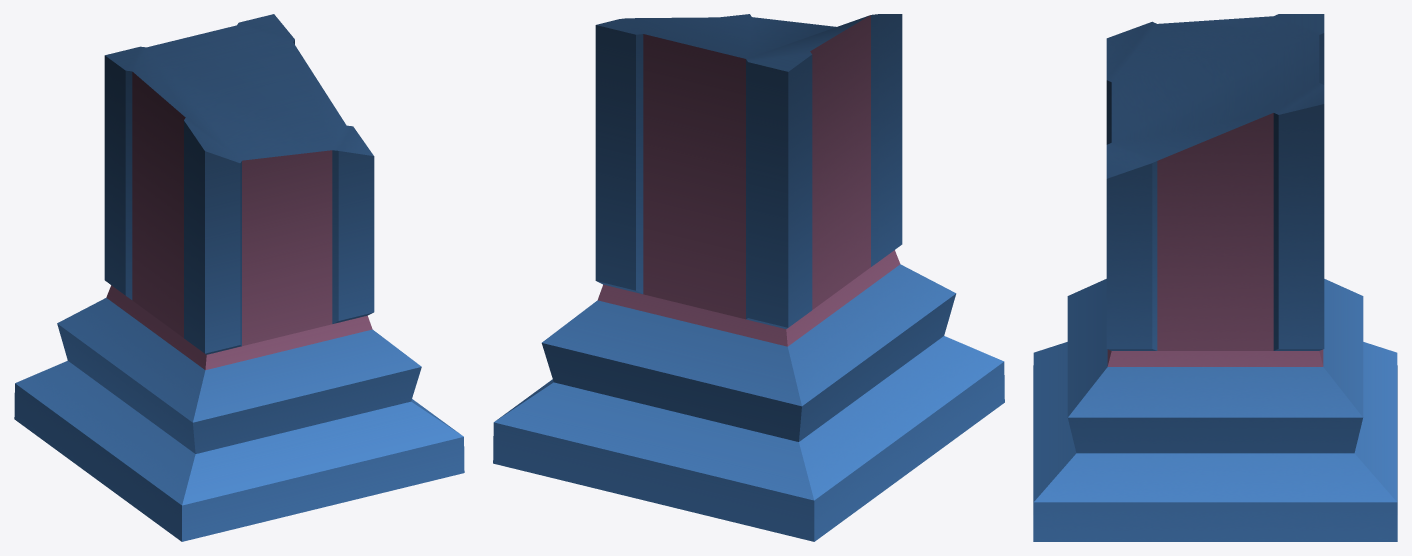
File: BrokenPillar.FBX
The picture shows the model from 3 angles, left to right: view 1: azimuth 30°, elevation 25°; view 2: azimuth 150°, elevation 25°; view 3: azimuth 270°, elevation 25°; orthographic projection. The views are drawn at different scales.
Visible parts, largest first — view 1: Broken Pillar; view 2: Broken Pillar; view 3: Broken Pillar.
Part boxes in pixels (<box>): Broken Pillar: <box>14,14,464,541</box>; Broken Pillar: <box>493,14,1004,541</box>; Broken Pillar: <box>1033,14,1397,541</box>.
Bounding box in the file's own units: 10.59 × 13.43 × 10.88.
1 material, 1 textured.
